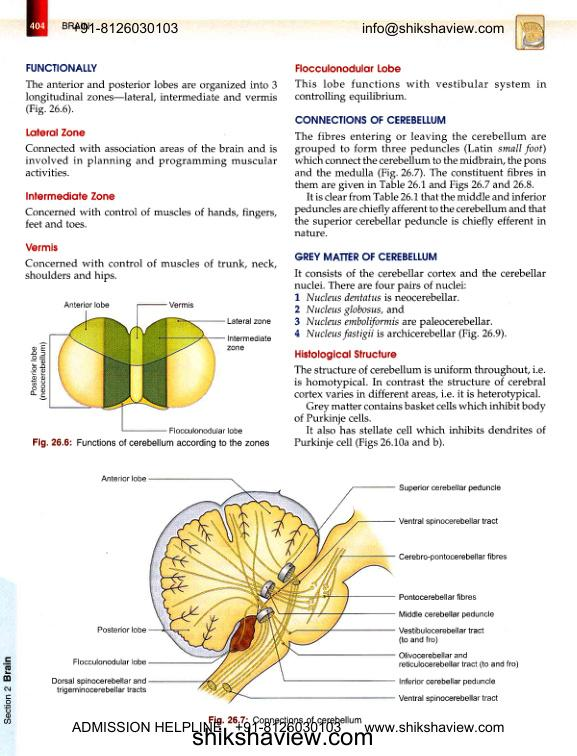caption: (32, 437, 270, 449), (207, 715, 363, 725)
image: (42, 462, 537, 711), (21, 290, 281, 436)
list: (294, 291, 508, 341)
sub-section-heading: (294, 114, 447, 126), (294, 251, 439, 262), (294, 348, 397, 362), (294, 63, 402, 74), (25, 190, 116, 202), (25, 62, 98, 73), (24, 127, 86, 138), (24, 241, 60, 253)
text: (293, 130, 547, 238), (293, 364, 547, 450), (24, 78, 279, 116), (24, 142, 279, 178), (294, 77, 549, 104), (24, 257, 278, 283), (293, 267, 547, 292), (24, 206, 278, 230)
